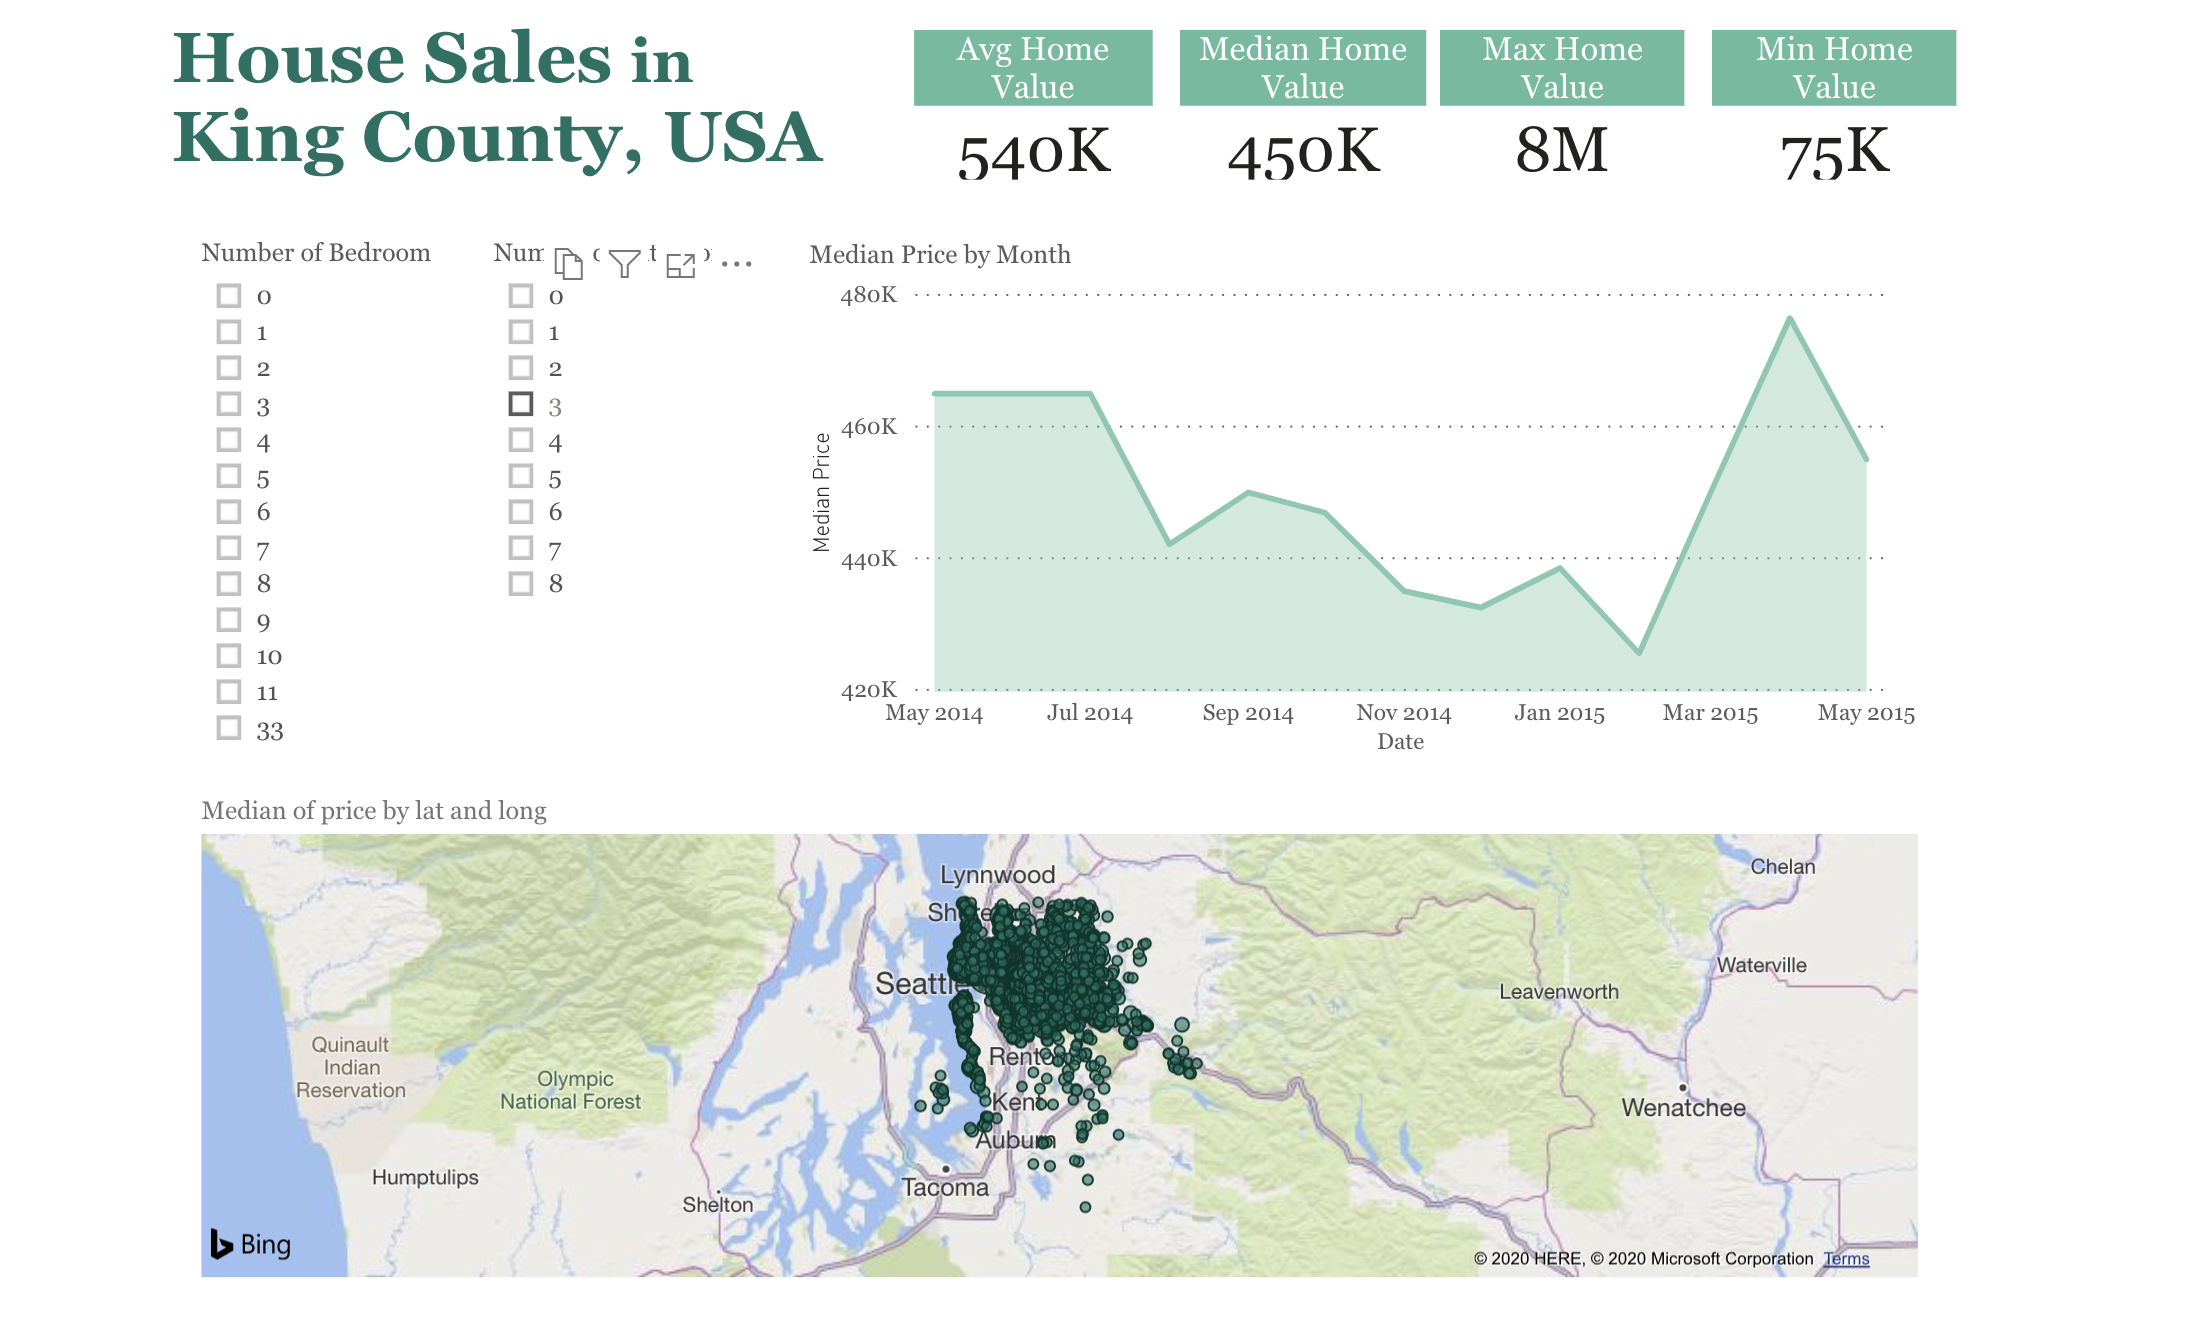

What the dashboard file says about the page in this screenshot:
{"tool":"powerbi","page":{"name":"Overview","canvas":[960,720],"ordinal":0},"visuals":[{"type":"textbox","box":[0,123.6,602.8,60.1],"z":1000},{"type":"slicer","title":"Number of Bathroom","fields":{"Values":["kc_house_data.bathrooms"]},"box":[170,134.3,147.1,275.7],"z":2000},{"type":"slicer","title":"Number of Bedroom","fields":{"Values":["kc_house_data.bedrooms"]},"box":[15.7,134.3,154.3,275.7],"z":3000},{"type":"card","title":"Avg Home Value","fields":{"Values":["Avg(kc_house_data.price)"]},"box":[397.1,24.3,125.7,84.3],"z":6000},{"type":"card","title":"Median Home Value","fields":{"Values":["Median(kc_house_data.price)"]},"box":[537.1,24.3,130,84.3],"z":7000},{"type":"card","title":"Max Home Value","fields":{"Values":["Max(kc_house_data.price)"]},"box":[674.6,24.8,129.4,84],"z":8000},{"type":"card","title":"Min Home Value","fields":{"Values":["Min(kc_house_data.price)"]},"box":[817.7,24.8,129.4,84],"z":9000},{"type":"stackedAreaChart","title":"Median Price by Month","fields":{"Category":["kc_house_data.year/month"],"Y":["Median(kc_house_data.price)"]},"box":[337,134.8,594.4,275.7],"z":10000},{"type":"textbox","box":[0,12.8,397.1,108.6],"z":10001},{"type":"map","fields":{"Size":["Median(kc_house_data.price)"],"X":["kc_house_data.long"],"Y":["kc_house_data.lat"]},"box":[15.7,428.6,915.7,258.6],"z":10002}]}

Visuals, with their boxes on the page's 960x720 design canvas (x1, y1, x2, y2). These are canvas units, not pixel positions in the 2204x1320 screenshot, which may show the page scaled, cropped or inside an application window:
textbox: 0,124,603,184
"Number of Bathroom" slicer: 170,134,317,410
"Number of Bedroom" slicer: 16,134,170,410
"Avg Home Value" card: 397,24,523,109
"Median Home Value" card: 537,24,667,109
"Max Home Value" card: 675,25,804,109
"Min Home Value" card: 818,25,947,109
"Median Price by Month" stackedAreaChart: 337,135,931,410
textbox: 0,13,397,121
map - Median(kc_house_data.price) x kc_house_data.long: 16,429,931,687
